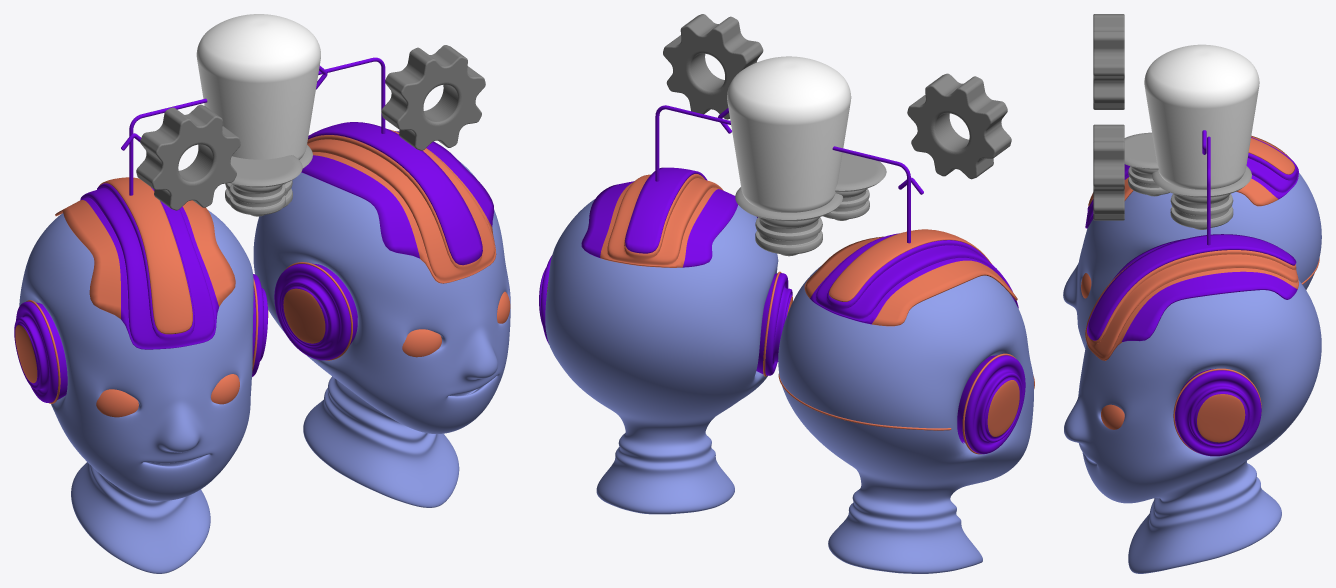
The model's file is transfer-learning-3d-animated-icon-1016379000349.glb.
The picture shows the model from 3 angles, left to right: view 1: azimuth 30°, elevation 25°; view 2: azimuth 150°, elevation 25°; view 3: azimuth 270°, elevation 25°; orthographic projection. The views are drawn at different scales.
Parts seen in each view (by area): view 1: Cube.013, Cube.032, Cylinder.001, Cube.002, Cube.016, Cylinder.003, Cylinder.007, Cube.027, Cube.014, Cylinder.004, Sphere, NurbsPath (+1 smaller); view 2: Cube.032, Cube.013, Cylinder.001, Cube.002, Cube.016, Cylinder.003, Cylinder.007, Cylinder, Cube.027, Cube.014, Cylinder.004, NurbsPath; view 3: Cube.013, Cylinder.001, Cube.032, Cube.016, Cube.027, Cylinder.007, Cylinder.003, Cylinder, Cube.002, Cylinder.004, Cube.014, Sphere.007 (+2 smaller).
Part boxes in pixels (x1,y1,x2,y2): Cube.013: [253, 160, 510, 507]; Cube.032: [14, 210, 268, 573]; Cylinder.001: [196, 14, 320, 159]; Cube.002: [55, 183, 235, 349]; Cube.016: [301, 129, 496, 283]; Cylinder.003: [136, 104, 240, 210]; Cylinder.007: [381, 45, 485, 150]; Cube.027: [308, 122, 482, 265]; Cube.014: [99, 177, 192, 334]; Cylinder.004: [229, 155, 302, 216]; Sphere: [96, 374, 239, 417]; NurbsPath: [129, 57, 385, 195]; Cube.032: [778, 265, 1033, 573]; Cube.013: [539, 199, 792, 514]; Cylinder.001: [727, 56, 851, 212]; Cube.002: [804, 233, 1018, 326]; Cube.016: [581, 174, 757, 267]; Cylinder.003: [907, 73, 1011, 179]; Cylinder.007: [663, 14, 763, 119]; Cylinder: [735, 187, 842, 256]; Cube.027: [625, 167, 707, 253]; Cube.014: [829, 229, 991, 301]; Cylinder.004: [823, 152, 886, 220]; NurbsPath: [655, 105, 910, 243]; Cube.013: [1064, 280, 1321, 573]; Cylinder.001: [1144, 44, 1259, 189]; Cube.032: [1063, 173, 1321, 348]; Cube.016: [1085, 239, 1298, 360]; Cube.027: [1087, 234, 1296, 340]; Cylinder.007: [1093, 124, 1124, 220]; Cylinder.003: [1093, 14, 1124, 109]; Cylinder: [1152, 166, 1251, 229]; Cube.002: [1085, 135, 1298, 228]; Cylinder.004: [1124, 132, 1169, 196]; Cube.014: [1088, 138, 1294, 206]; Sphere.007: [1101, 404, 1124, 429].
Size of the model in its own units: 0.4376 by 0.4434 by 0.2291.
